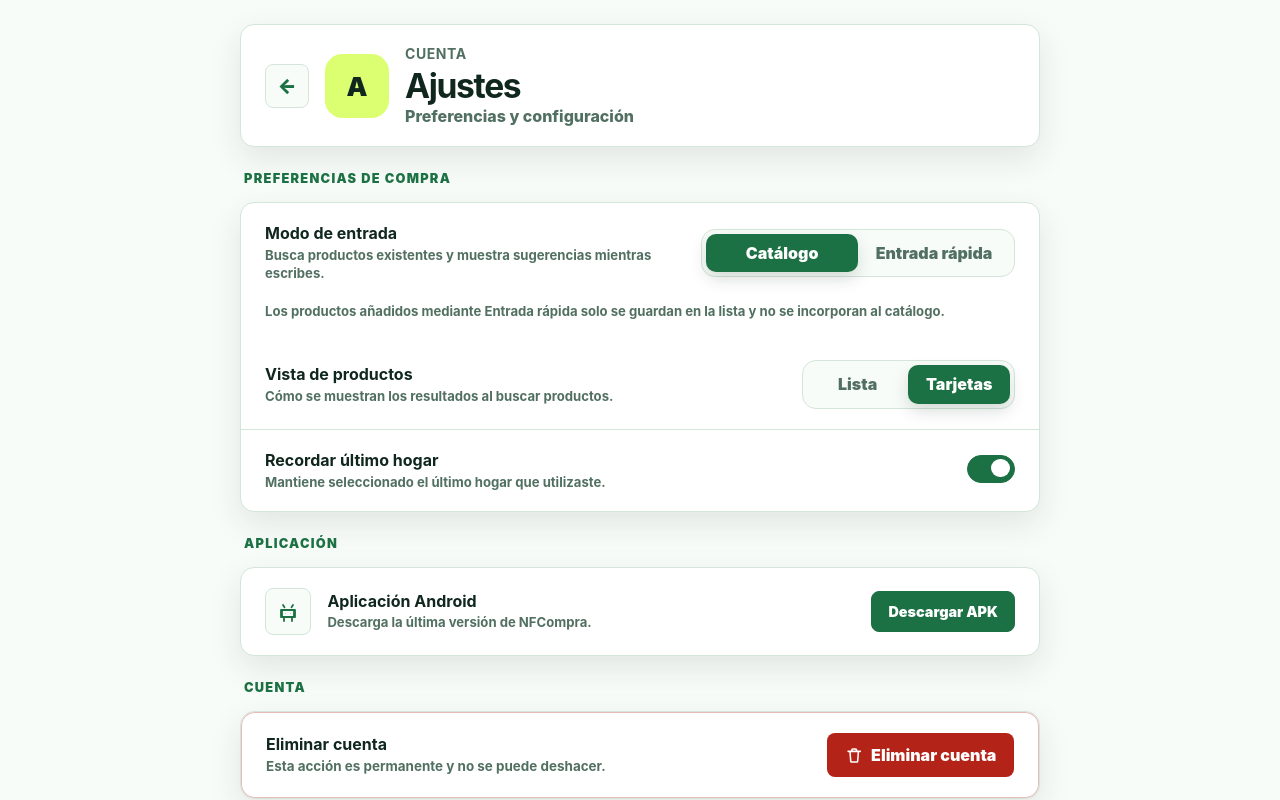
Test: SettingsPage › mantiene el diálogo abierto cuando el backend rechaza la contraseña
Click the button "Eliminar cuenta" at (921, 755), box [827, 733, 1014, 777]
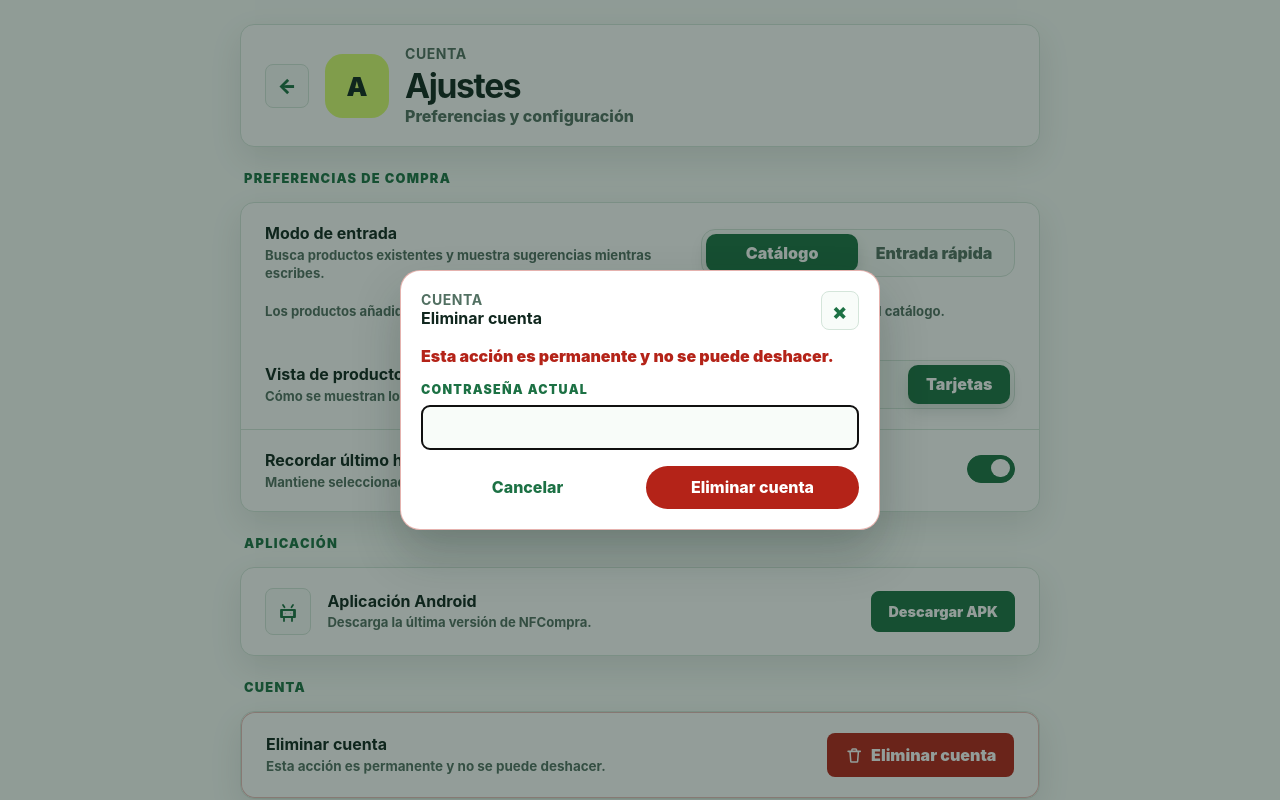
Type "wrong password" into the password field labelled "Contraseña actual" at (640, 428), box [421, 405, 859, 450]
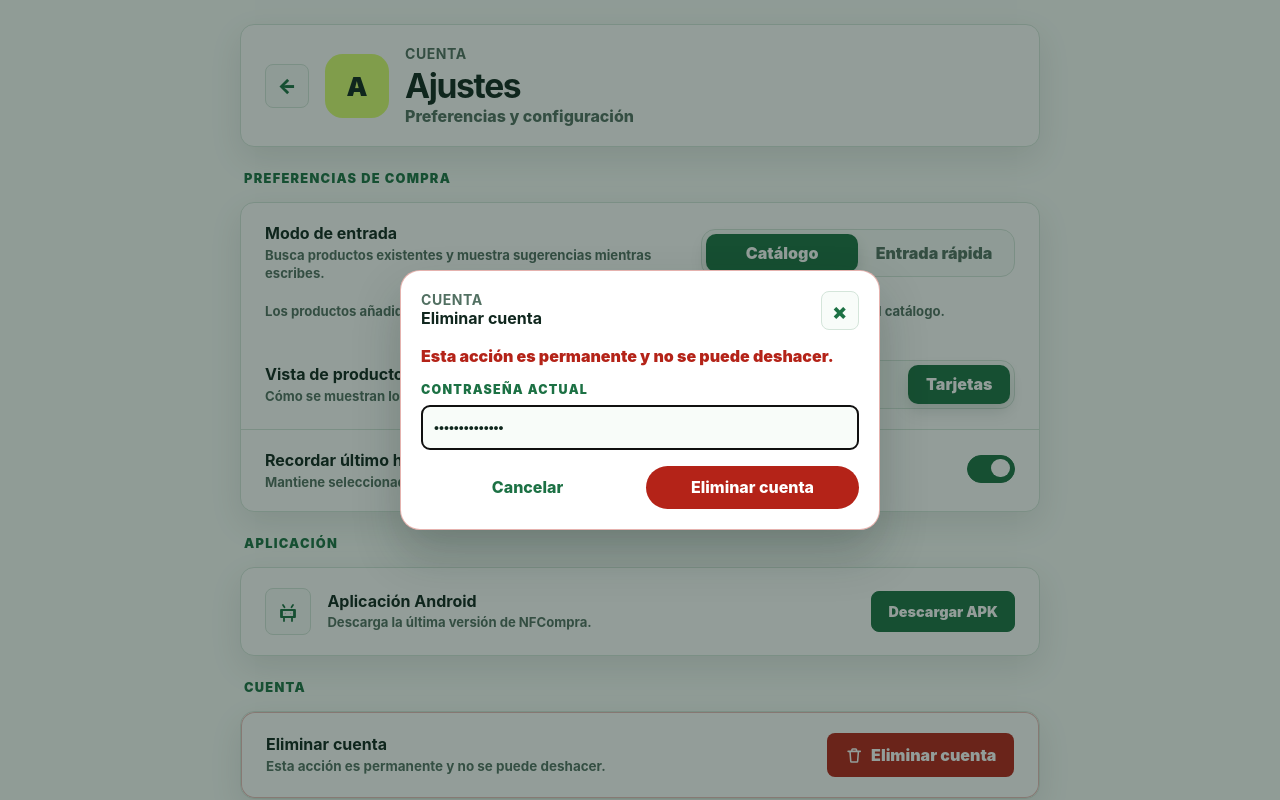
Click the button "Eliminar cuenta" at (752, 488), box [646, 466, 859, 509]
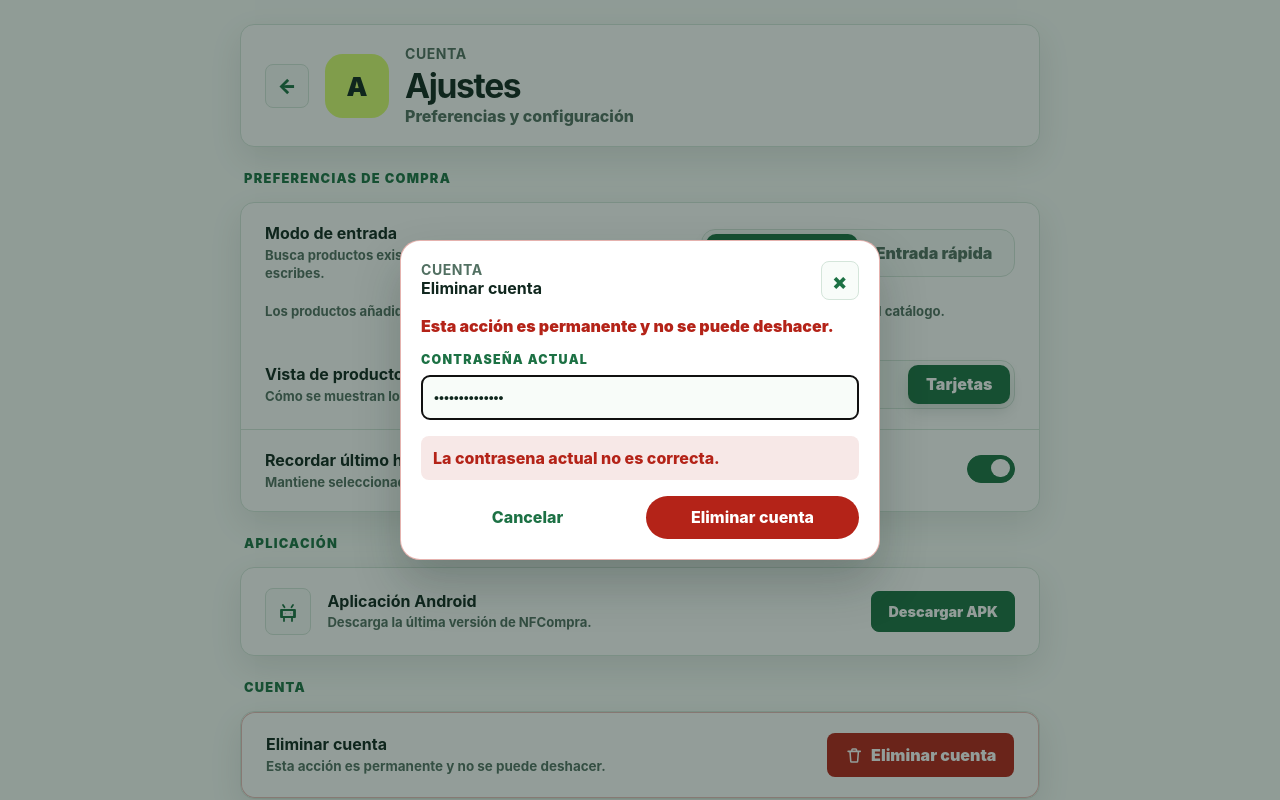
Expected: the dialog "Eliminar cuenta" is shown, [400, 240, 880, 560]
Expected: the message reads "La contrasena actual no es correcta.", [433, 448, 720, 468]
